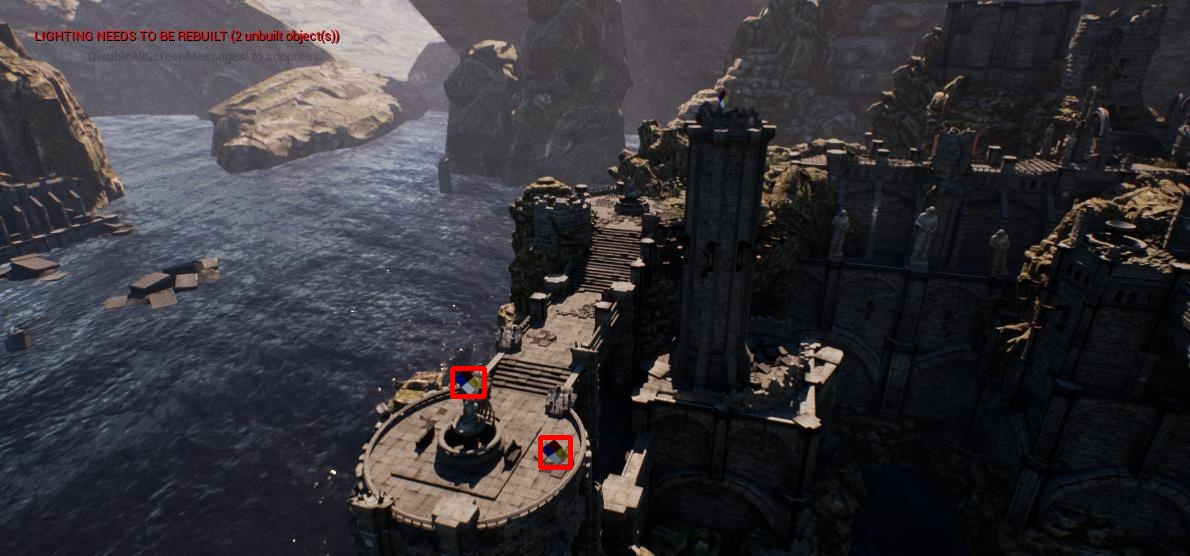nfpa: (540, 437, 570, 467), (452, 368, 484, 396)
